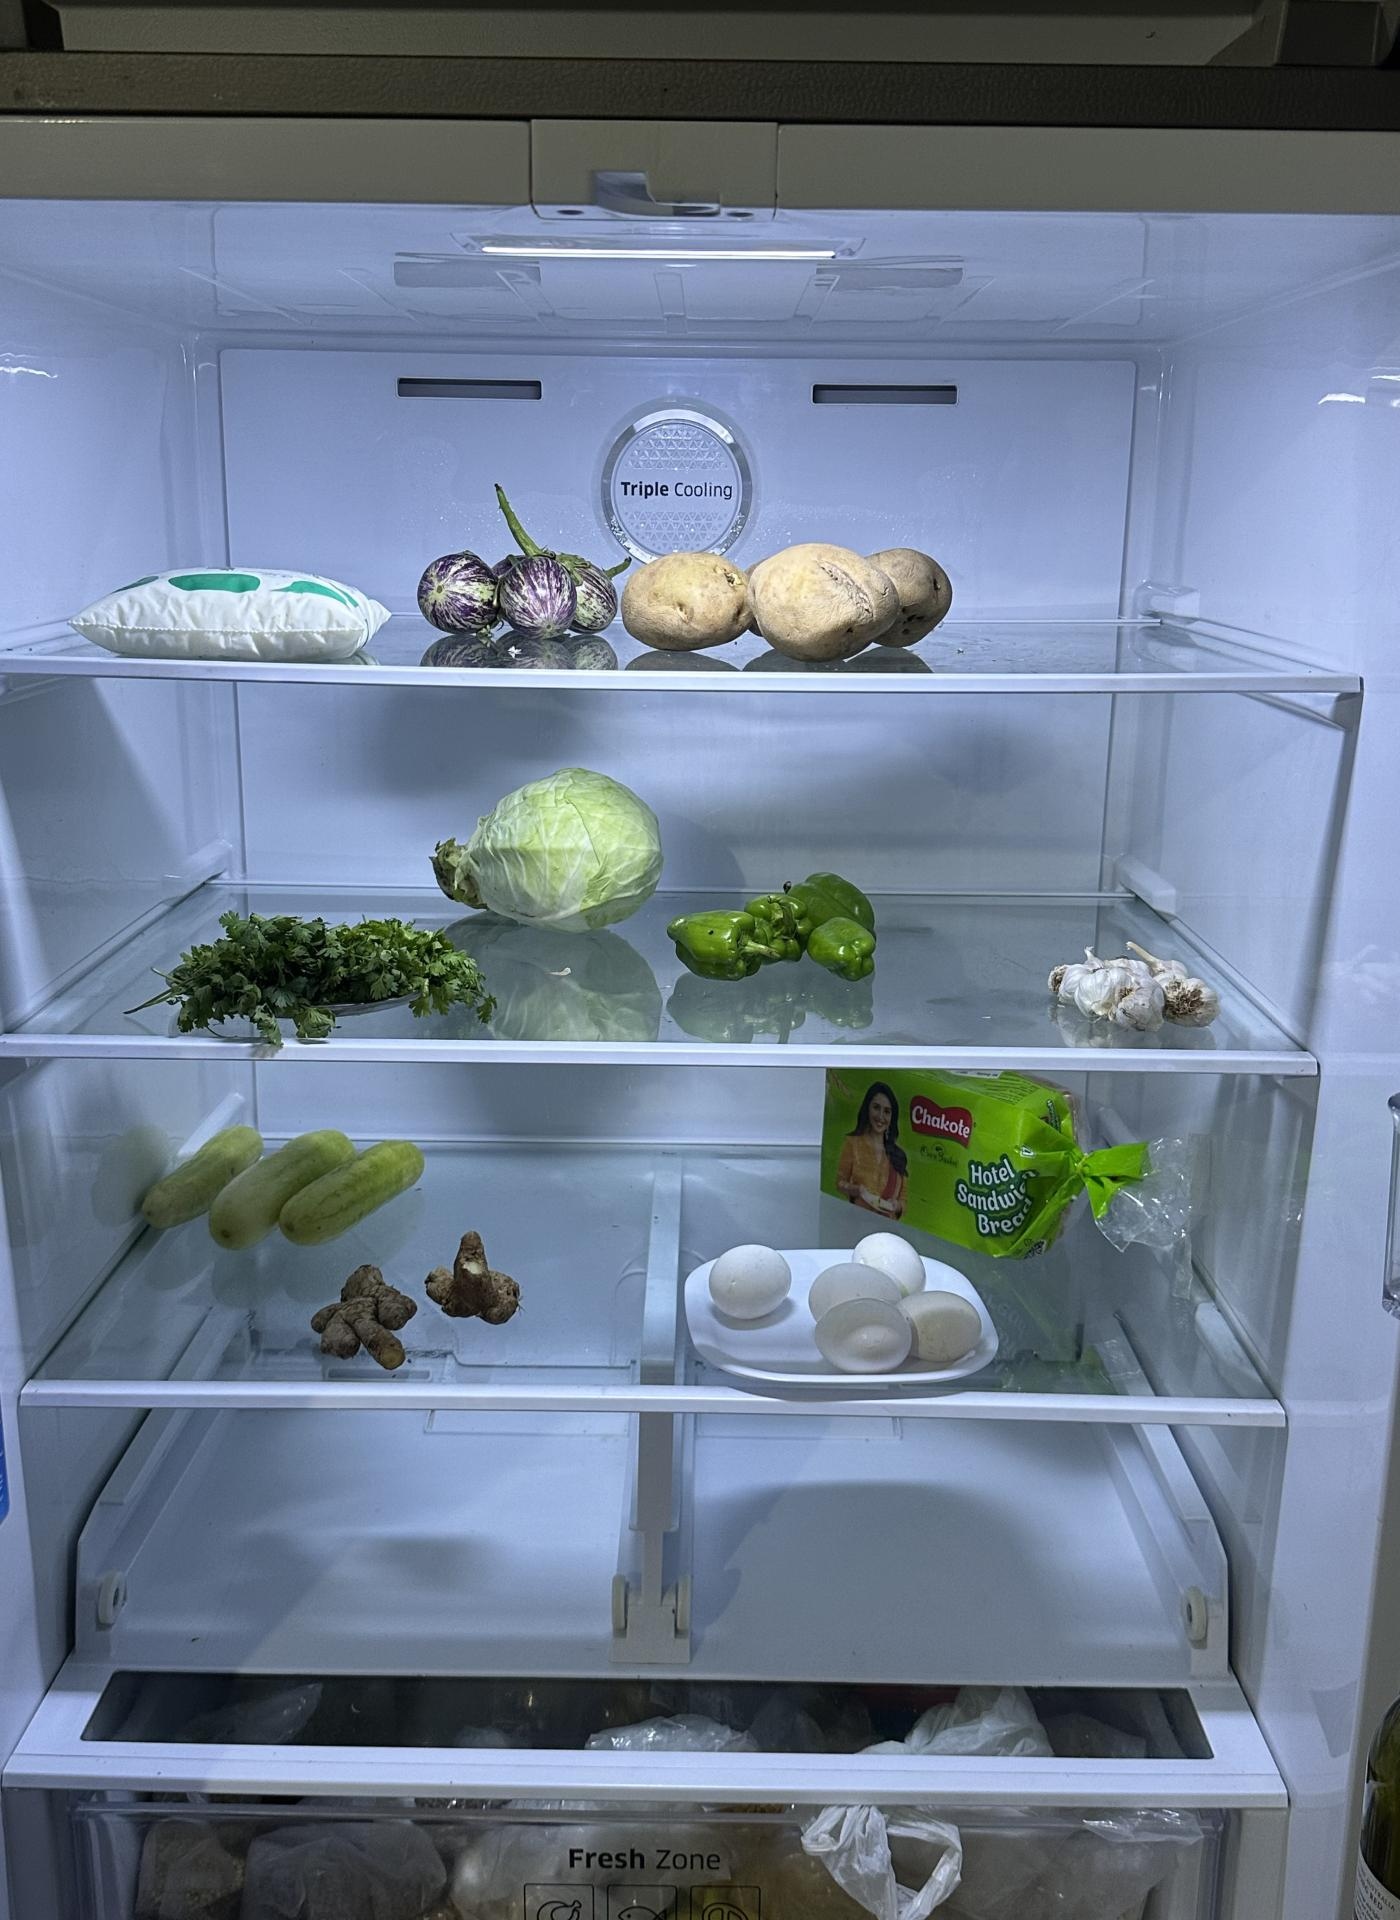bread: (819, 1058, 1085, 1252)
brinjal: (419, 555, 623, 641)
cabbage: (435, 766, 662, 930)
capsicum: (662, 862, 877, 981)
coriander: (171, 905, 480, 1032)
cucumber: (130, 1128, 428, 1255)
egg: (716, 1240, 984, 1368)
garlic: (1050, 939, 1226, 1039)
ginger: (313, 1266, 422, 1376), (419, 1227, 532, 1330)
milk: (63, 559, 383, 668)
potato: (632, 547, 948, 656)
